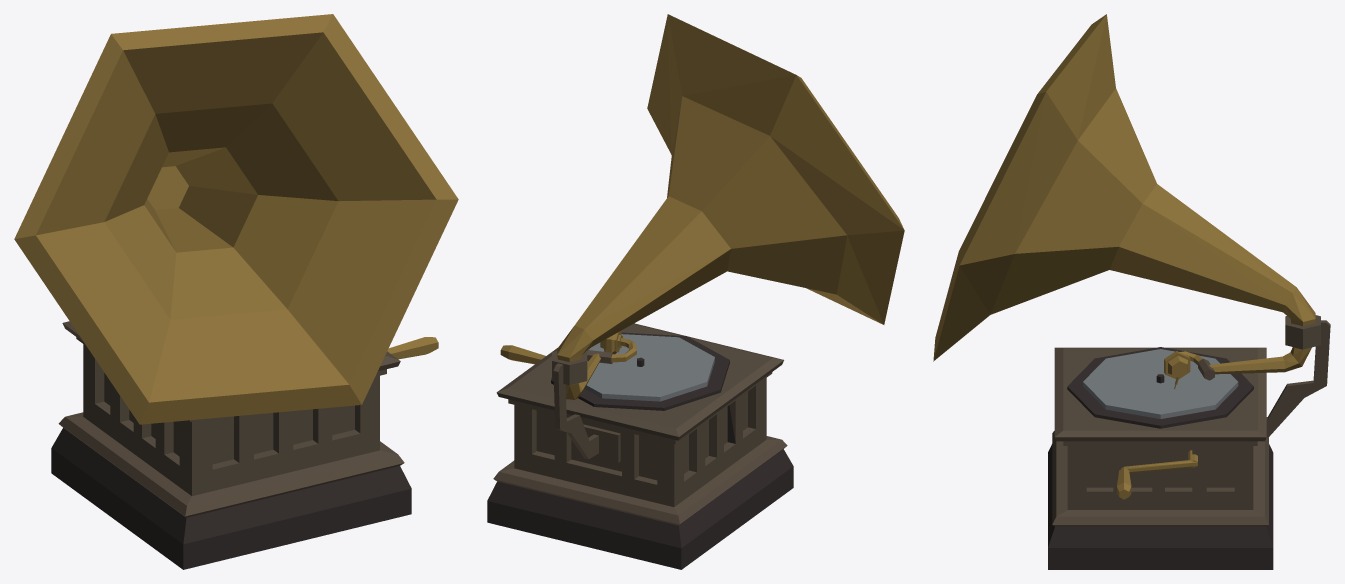
Rendered from WM_Gramophone.fbx.
3 views of the same model, side by side, from view 1: azimuth 30°, elevation 25°; view 2: azimuth 150°, elevation 25°; view 3: azimuth 270°, elevation 25° (orthographic). The views are drawn at different scales.
Parts seen in each view (by area): view 1: Gramophone; view 2: Gramophone; view 3: Gramophone.
Part boxes in pixels (x1,y1,x2,y2): Gramophone: (14,14,458,569); Gramophone: (487,14,904,569); Gramophone: (933,14,1330,569).
Bounding box in the file's own units: 4.15 × 4.61 × 3.73.
